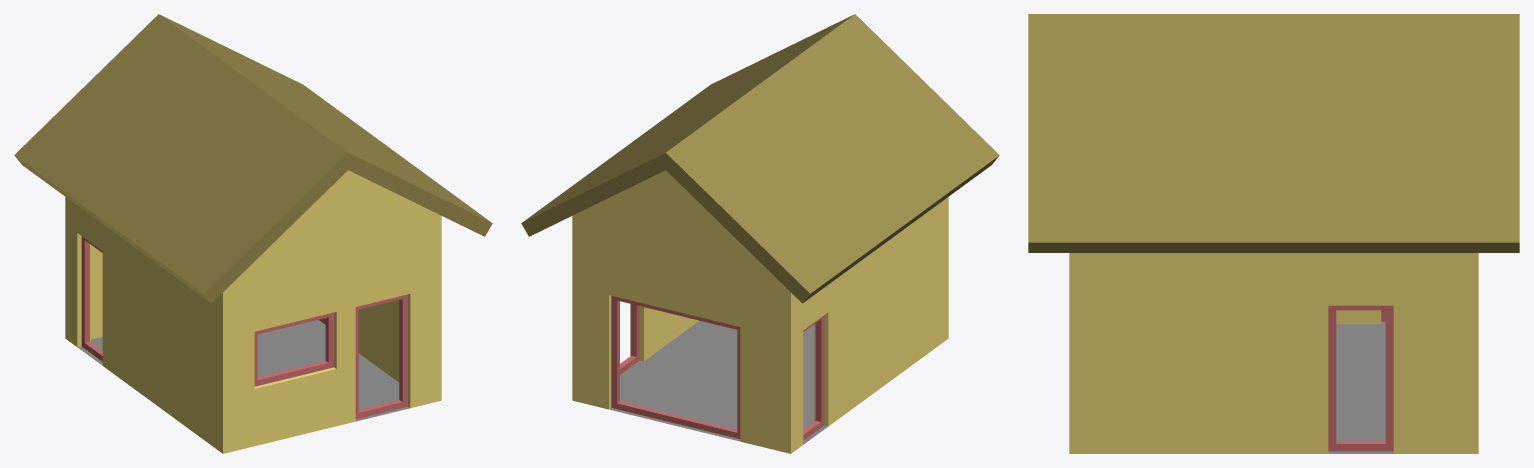
Rendered from result.glb.
3 views of the same model, side by side, from view 1: azimuth 30°, elevation 25°; view 2: azimuth 150°, elevation 25°; view 3: azimuth 270°, elevation 25° (orthographic). The views are drawn at different scales.
Parts seen in each view (by area): view 1: f3acc95e-875a-4a08-b768-e5e1c468af4d__undefined, 6e7f4b2c-fce3-4522-a153-33783456fe80__undefined (×2), f930bd10-75ab-4308-8730-49de339cd6f0__Plane_6, 82a30788-a4d6-4933-89c0-05f4b02855d5__Box, a3a4d2c6-cba0-4d40-82f2-c9eb663cef1a__Box_3, de4cffcc-67f4-4fb7-873e-e7daaf202777__Box_12; view 2: 6e7f4b2c-fce3-4522-a153-33783456fe80__undefined (×2), f3acc95e-875a-4a08-b768-e5e1c468af4d__undefined, f930bd10-75ab-4308-8730-49de339cd6f0__Plane_6, 2423912e-9cea-483c-aff0-3315ab8cc874__Box_9, de4cffcc-67f4-4fb7-873e-e7daaf202777__Box_12, 40a4348b-454f-487c-af1f-4c53a817a357__Box_15; view 3: 6e7f4b2c-fce3-4522-a153-33783456fe80__undefined, f3acc95e-875a-4a08-b768-e5e1c468af4d__undefined, f930bd10-75ab-4308-8730-49de339cd6f0__Plane_6, 40a4348b-454f-487c-af1f-4c53a817a357__Box_15.
Part boxes in pixels (x1,y1,x2,y2): f3acc95e-875a-4a08-b768-e5e1c468af4d__undefined: (65,170,441,453); 6e7f4b2c-fce3-4522-a153-33783456fe80__undefined (×2): (14,14,492,303); f930bd10-75ab-4308-8730-49de339cd6f0__Plane_6: (78,319,409,421); 82a30788-a4d6-4933-89c0-05f4b02855d5__Box: (355,294,407,418); a3a4d2c6-cba0-4d40-82f2-c9eb663cef1a__Box_3: (254,312,334,386); de4cffcc-67f4-4fb7-873e-e7daaf202777__Box_12: (81,236,102,361); 6e7f4b2c-fce3-4522-a153-33783456fe80__undefined (×2): (521,14,999,303); f3acc95e-875a-4a08-b768-e5e1c468af4d__undefined: (572,170,948,453); f930bd10-75ab-4308-8730-49de339cd6f0__Plane_6: (609,320,827,444); 2423912e-9cea-483c-aff0-3315ab8cc874__Box_9: (611,295,740,438); de4cffcc-67f4-4fb7-873e-e7daaf202777__Box_12: (803,315,824,440); 40a4348b-454f-487c-af1f-4c53a817a357__Box_15: (620,304,639,374); 6e7f4b2c-fce3-4522-a153-33783456fe80__undefined: (1028,14,1519,252); f3acc95e-875a-4a08-b768-e5e1c468af4d__undefined: (1069,253,1478,453); f930bd10-75ab-4308-8730-49de339cd6f0__Plane_6: (1328,321,1393,453); 40a4348b-454f-487c-af1f-4c53a817a357__Box_15: (1328,305,1393,451).
Bounding box in the file's own units: 529 × 500 × 600.
